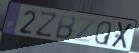2: (18, 9, 37, 37)
B: (53, 13, 77, 41)
Q: (94, 20, 113, 47)
X: (109, 21, 135, 50)
Z: (34, 10, 60, 39), (73, 17, 97, 44)
